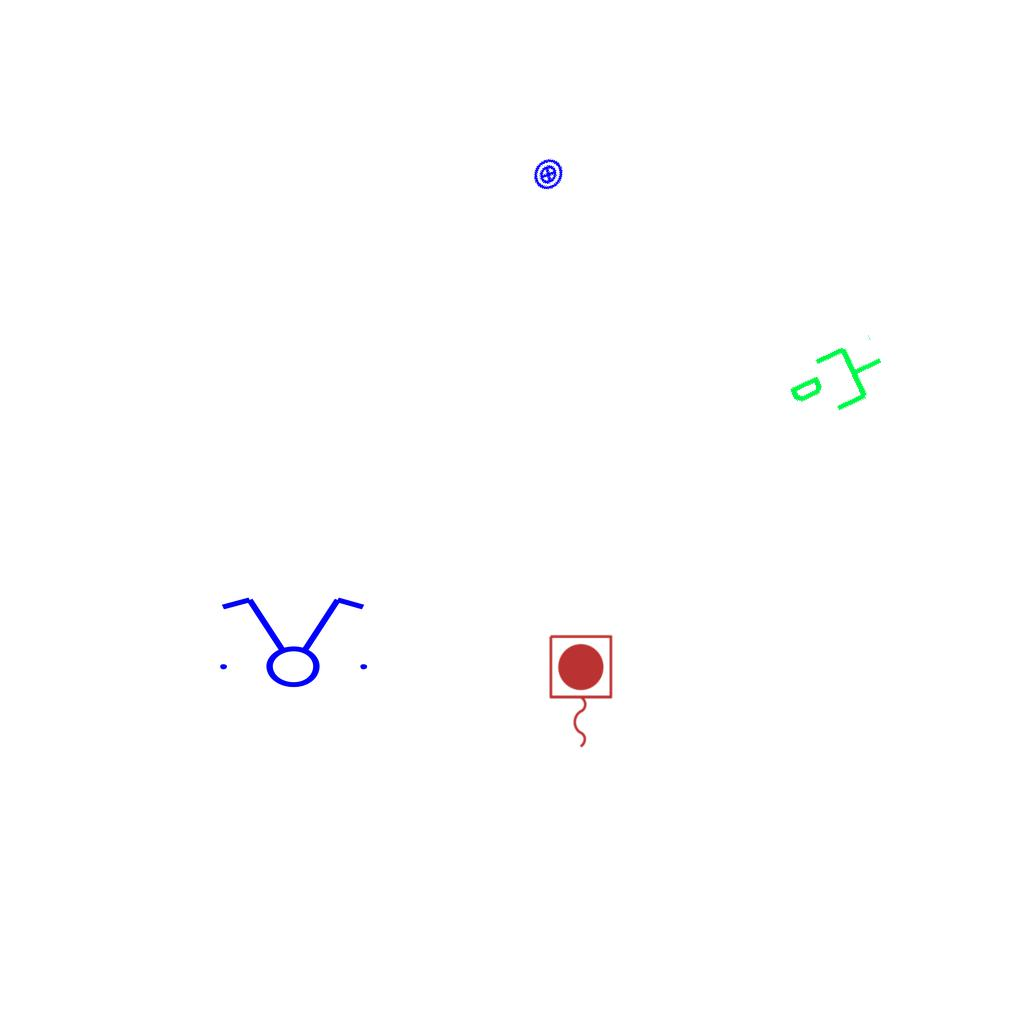Datenanschluss_einfach: (778, 329, 899, 435)
Serienschalter: (208, 593, 376, 689)
Taster_beleuchtet: (526, 152, 571, 197)
Zugtaster: (544, 631, 616, 753)
